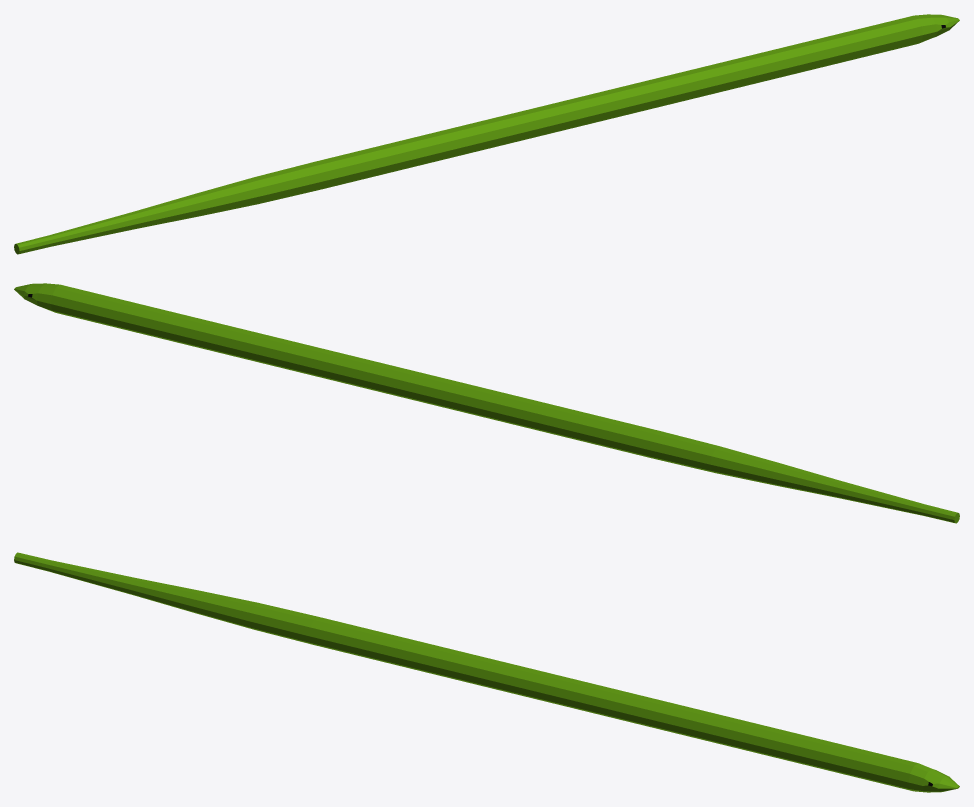
Rendered from Snake2.glb.
3 views of the same model, one above another, from view 1: azimuth 30°, elevation 25°; view 2: azimuth 150°, elevation 25°; view 3: azimuth 330°, elevation 25° (orthographic).
Visible parts, largest first — view 1: Cylinder; view 2: Cylinder; view 3: Cylinder.
Part boxes in pixels (<box>): Cylinder: <box>14,14,959,254</box>; Cylinder: <box>14,283,959,523</box>; Cylinder: <box>14,552,959,792</box>.
Bounding box in the file's own units: 7.16 × 0.1818 × 0.1911.
